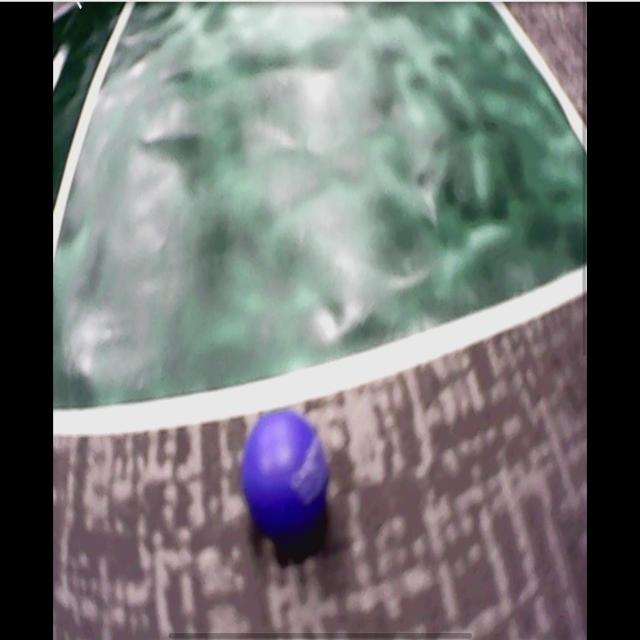ball: (242, 410, 330, 544)
